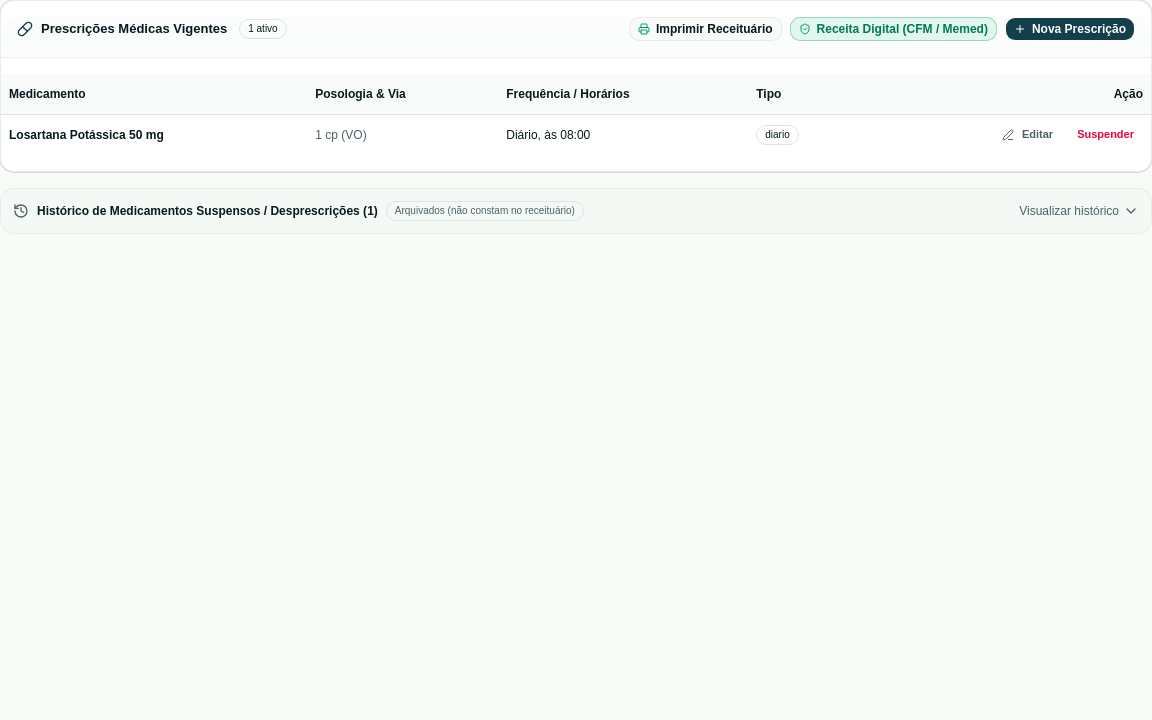
Test case: TabPresc Component (Edição e Gestão de Prescrições) › abre o modal preenchido com a posologia atual ao clicar em Editar
This screenshot has width=1152, height=720.
Click the button "Editar".
click(1028, 134)  # box left=993, top=122, right=1062, bottom=146
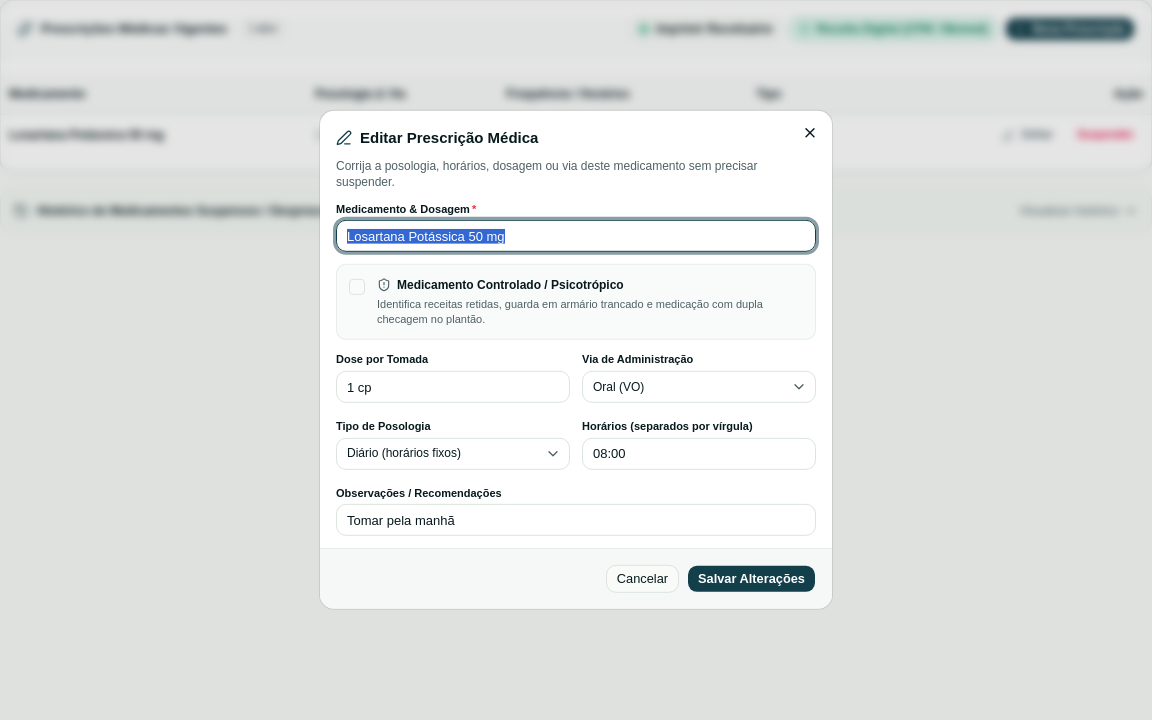
Result: the heading "Editar Prescrição Médica" is shown at left=336, top=129, right=538, bottom=146
Result: the field showing "Losartana Potássica 50 mg" is shown at left=336, top=220, right=816, bottom=252
Result: the field showing "1 cp" is shown at left=336, top=371, right=570, bottom=403
